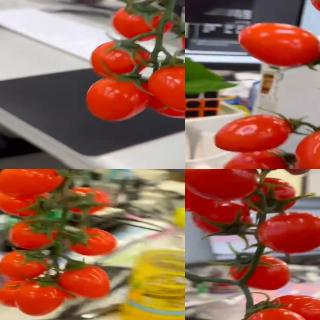tomato: (240, 23, 320, 70), (85, 77, 154, 123), (213, 114, 294, 153), (111, 3, 180, 43), (258, 211, 320, 253), (192, 200, 258, 238), (90, 40, 152, 79), (228, 255, 293, 292), (185, 169, 258, 200), (241, 176, 296, 214), (58, 264, 112, 301), (147, 62, 185, 112), (0, 169, 67, 197), (9, 218, 61, 251), (16, 283, 64, 317), (66, 227, 118, 257), (0, 186, 47, 219), (0, 250, 50, 280), (64, 188, 116, 216), (262, 295, 320, 320), (223, 149, 291, 169), (0, 280, 43, 308), (295, 129, 320, 169), (245, 306, 315, 320)
